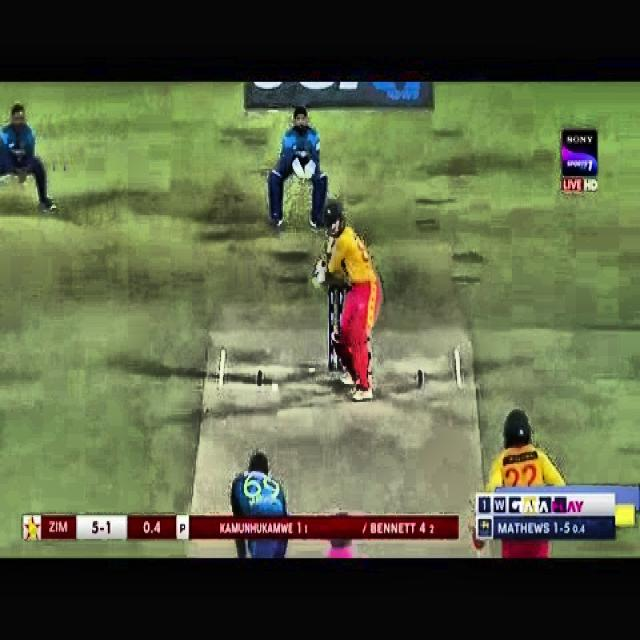Left-stump: (328, 290, 334, 372)
Middle-stump: (337, 354, 344, 366)
